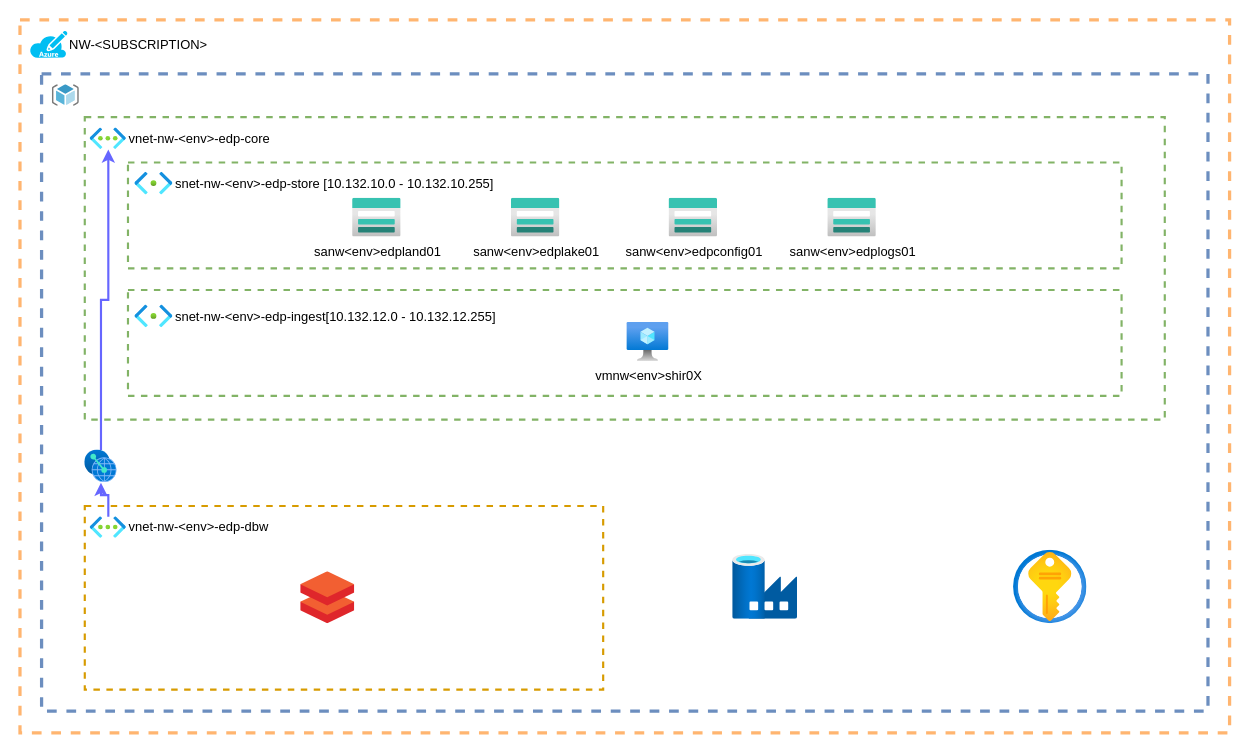
The diagram is 1250 pixels wide and 753 high, and some of its shapes have lost their labels. Each missing label, with the centre of its shape:
"adf-nw-<dev>-edp-core" goes at point 764,586.
"dbw-nw-<env>-edp-core" goes at point 327,597.
"kv-nw-<env>-edp-core" goes at point 1049,586.
"peer-nw-<env>-edp-dbw-core" goes at point 100,465.
"rg-nw-<env>-edp" goes at point 65,95.
